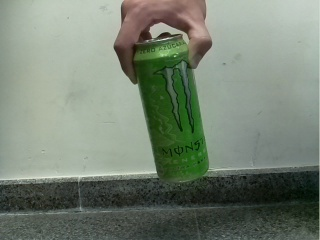botella plastico: (132, 33, 210, 183)
